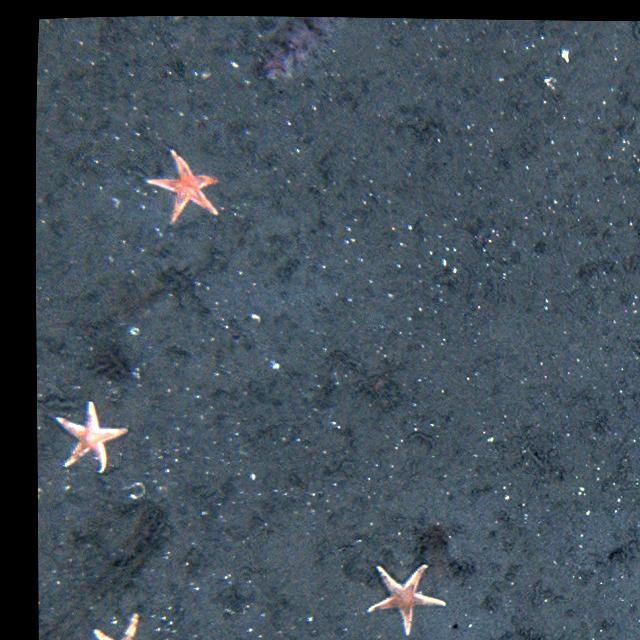flatfish: (255, 14, 348, 84)
